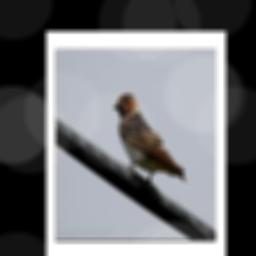Swallow: (113, 91, 189, 188)
